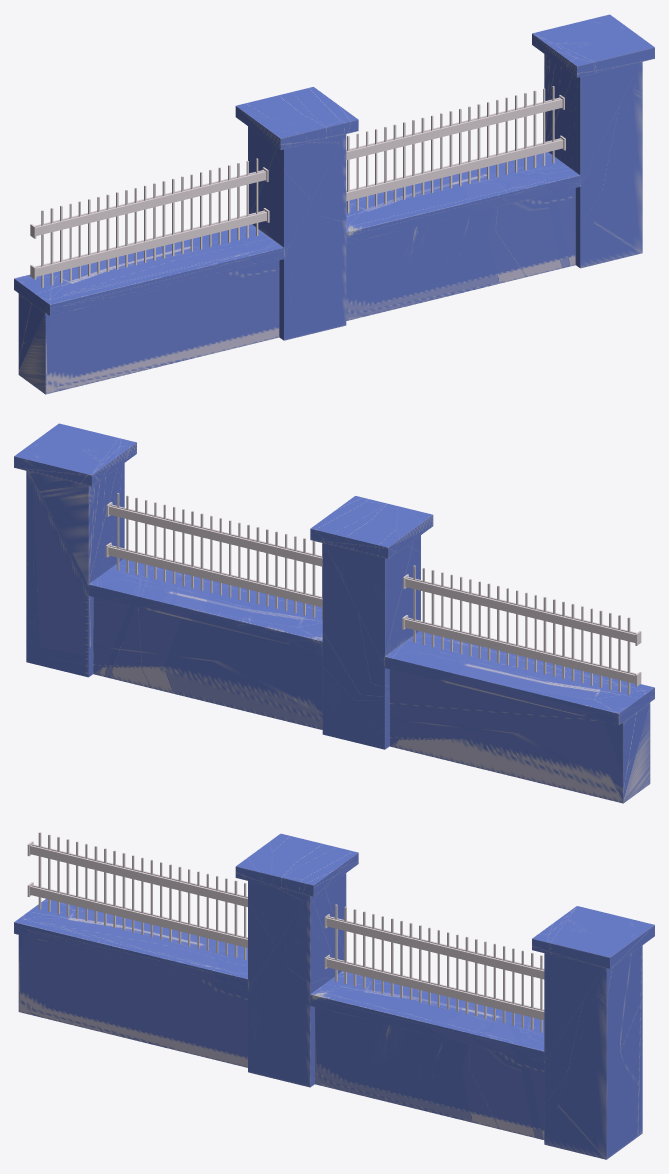
The model's file is Cerca.obj.
3 views of the same model, one above another, from view 1: azimuth 30°, elevation 25°; view 2: azimuth 150°, elevation 25°; view 3: azimuth 330°, elevation 25° (orthographic).
Visible parts, largest first — view 1: 3d-model; view 2: 3d-model; view 3: 3d-model.
Part boxes in pixels (x1,y1,x2,y2): 3d-model: (14, 14, 654, 394); 3d-model: (14, 423, 654, 803); 3d-model: (14, 832, 654, 1159).
Size of the model in its own units: 13.78 by 4.54 by 1.79.
1 material, 1 textured.
